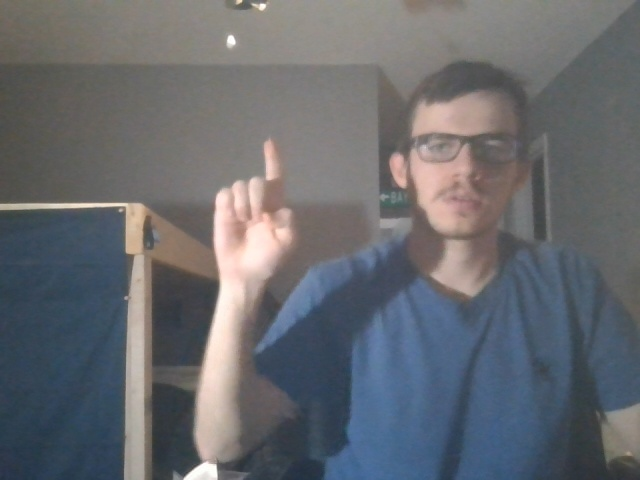D: (192, 135, 311, 283)
